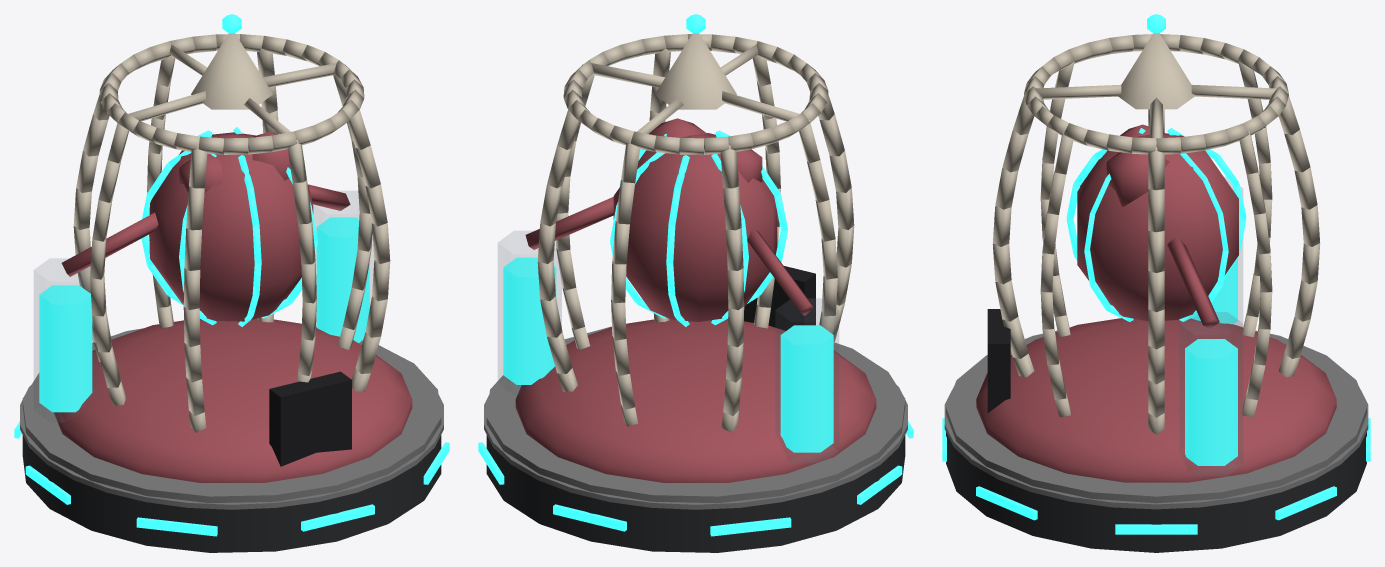
Rendered from Forge_Heartforge.glb.
3 views of the same model, side by side, from view 1: azimuth 30°, elevation 25°; view 2: azimuth 150°, elevation 25°; view 3: azimuth 270°, elevation 25° (orthographic).
Parts seen in each view (by area): view 1: Forge_Heartforge; view 2: Forge_Heartforge; view 3: Forge_Heartforge.
Part boxes in pixels (left/top/right/bottom): Forge_Heartforge: left=14, top=14, right=449, bottom=552; Forge_Heartforge: left=478, top=14, right=913, bottom=552; Forge_Heartforge: left=942, top=14, right=1370, bottom=552.
Size of the model in its own units: 4.68 by 5.43 by 4.68.
